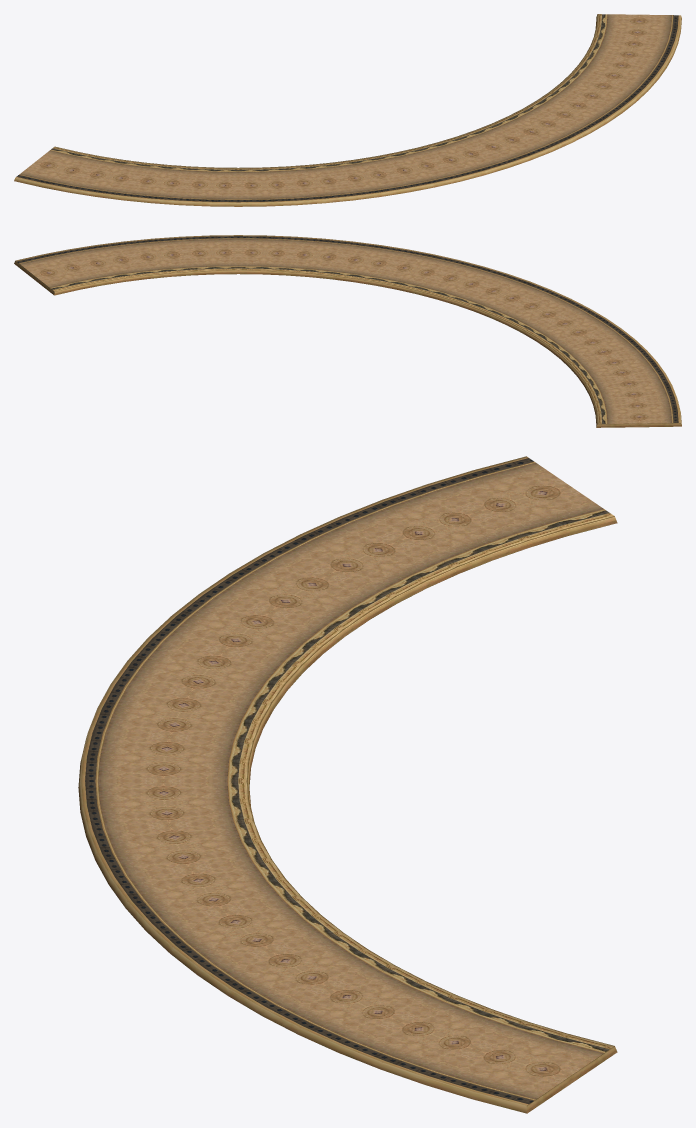
File: S_Build_City025.FBX
3 views of the same model, one above another, from view 1: azimuth 30°, elevation 25°; view 2: azimuth 150°, elevation 25°; view 3: azimuth 270°, elevation 25° (orthographic). The views are drawn at different scales.
Visible parts, largest first — view 1: S_Build_City025; view 2: S_Build_City025; view 3: S_Build_City025.
Part boxes in pixels (box(x1,y1,x2,y2)): S_Build_City025: box(14, 14, 681, 206); S_Build_City025: box(14, 235, 681, 427); S_Build_City025: box(78, 456, 617, 1113).
Bounding box in the file's own units: 346 × 121 × 1.63.
